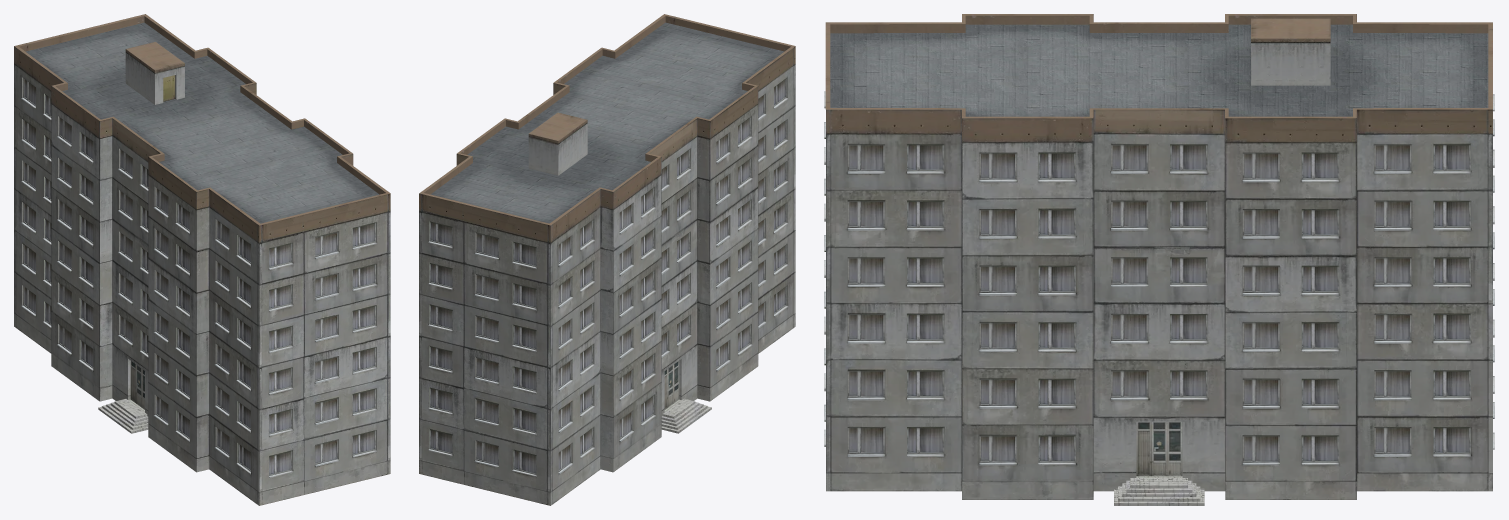
File: house_lowpoly_8k.glb
3 renders of one model, left to right at view 1: azimuth 30°, elevation 25°; view 2: azimuth 150°, elevation 25°; view 3: azimuth 270°, elevation 25°, orthographic. The views are drawn at different scales.
Visible parts, largest first — view 1: BUILDING_lambert1_0; view 2: BUILDING_lambert1_0; view 3: BUILDING_lambert1_0.
Part boxes in pixels (x1,y1,x2,y2): BUILDING_lambert1_0: [14, 14, 390, 505]; BUILDING_lambert1_0: [419, 14, 795, 505]; BUILDING_lambert1_0: [824, 14, 1494, 505].
Size of the model in its own units: 0.6832 by 1.15 by 1.66.
1 material, 1 textured.
